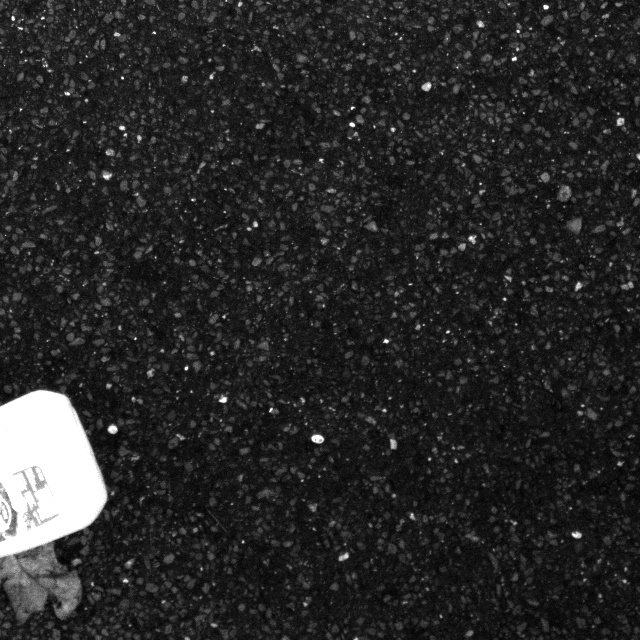can: (0, 399, 107, 558)
